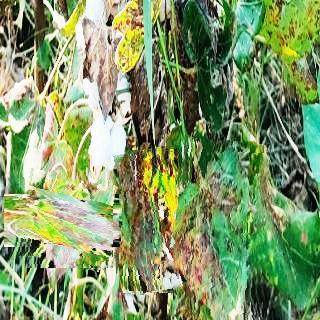blight: (173, 138, 266, 320), (119, 148, 186, 293), (17, 172, 113, 268)
